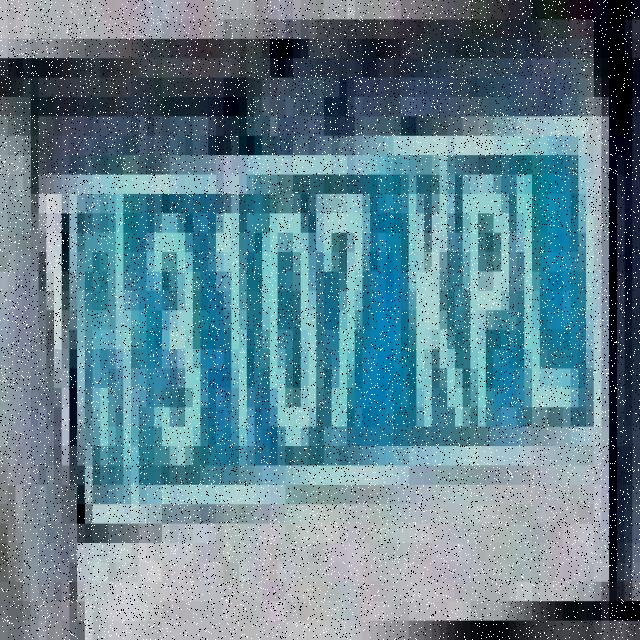licenseplate: (68, 124, 600, 535)
